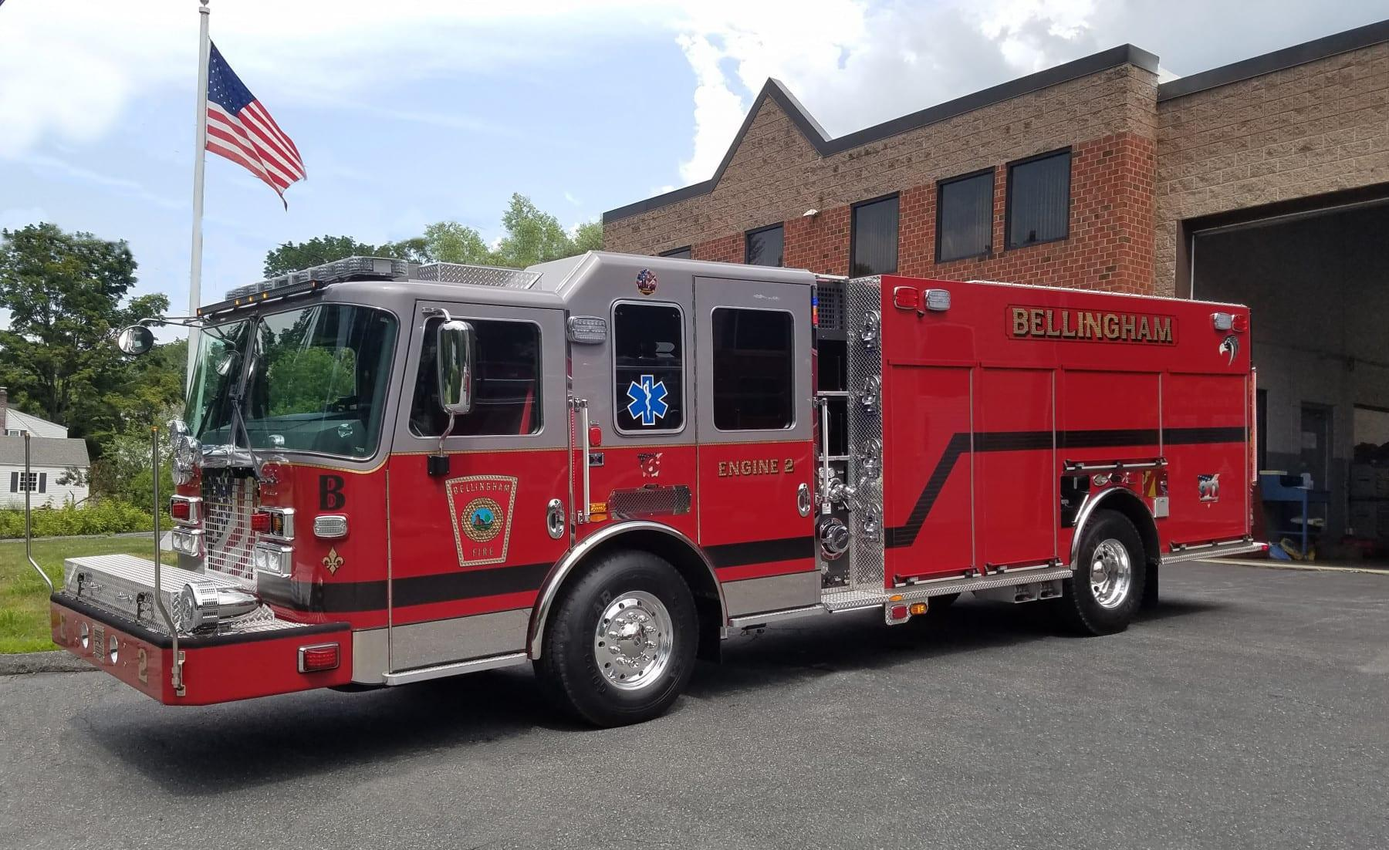Fire-engine: (43, 248, 1271, 729)
